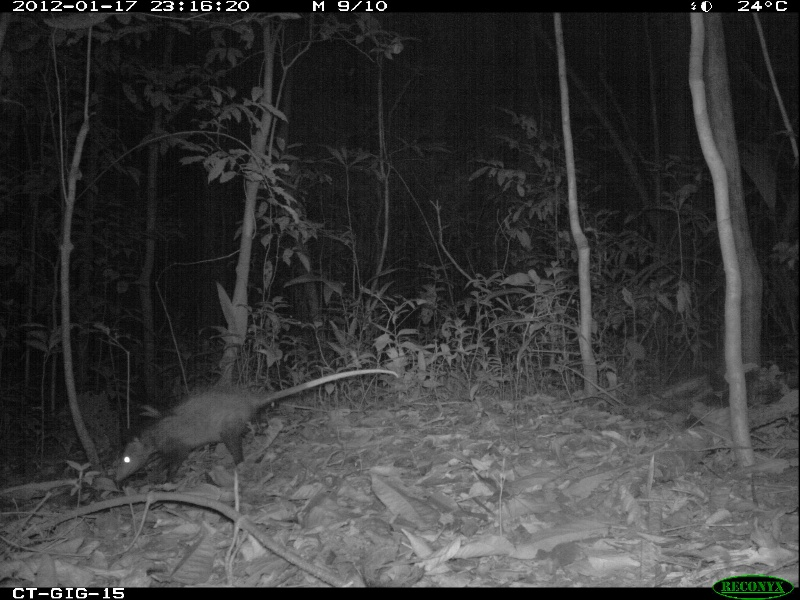opossum: (109, 350, 406, 494)
